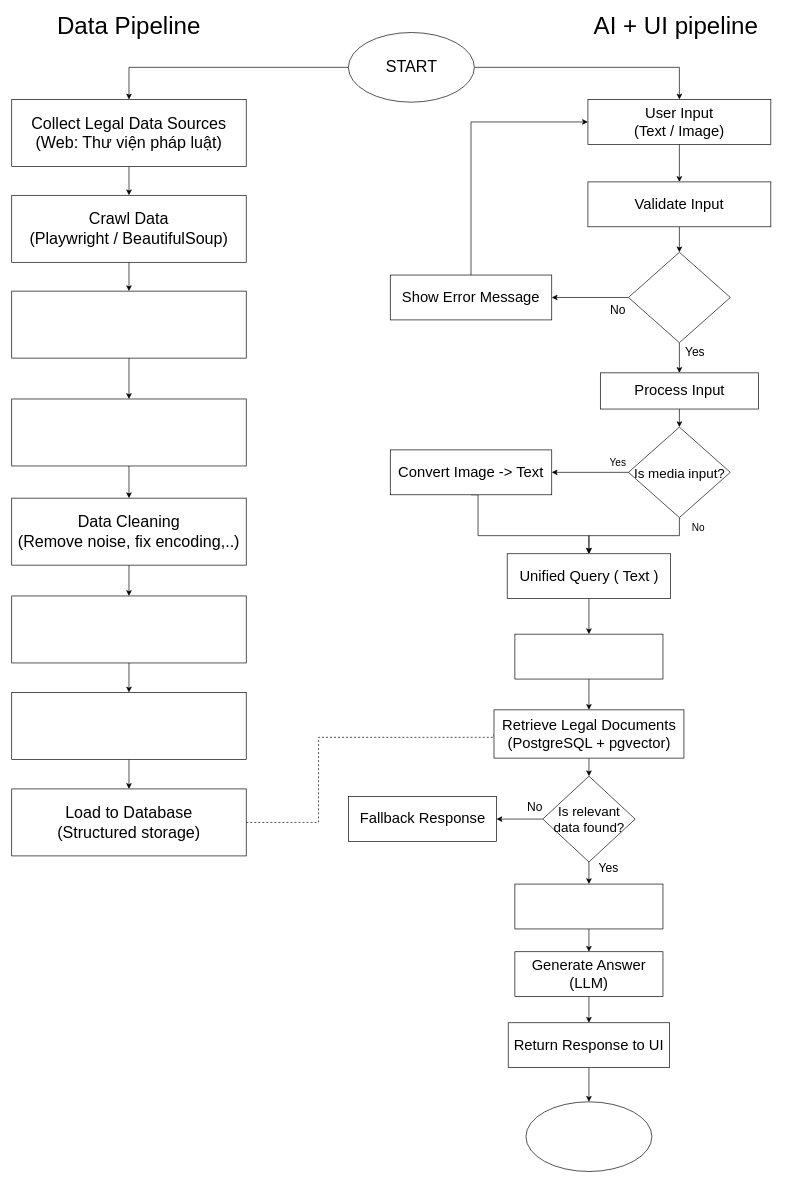
Image size: 787x1183. Some labels were removed from this diagram. The shapes that lost their labels are listed below. From the top down, each one's centre as x and y in pixels, then its label:
(x=679, y=297): Is input valid?
(x=128, y=324): Store Raw Data (Data Lake - JSON files)
(x=128, y=432): Parse & Extract Data (Extract: title, article, content)
(x=128, y=629): Data Quality Check (Check duplicates, null value,...)
(x=588, y=656): Query Embedding
(x=128, y=725): Unified Dataset (Parquet / structured format)
(x=588, y=906): Build Context
(x=588, y=1136): END
